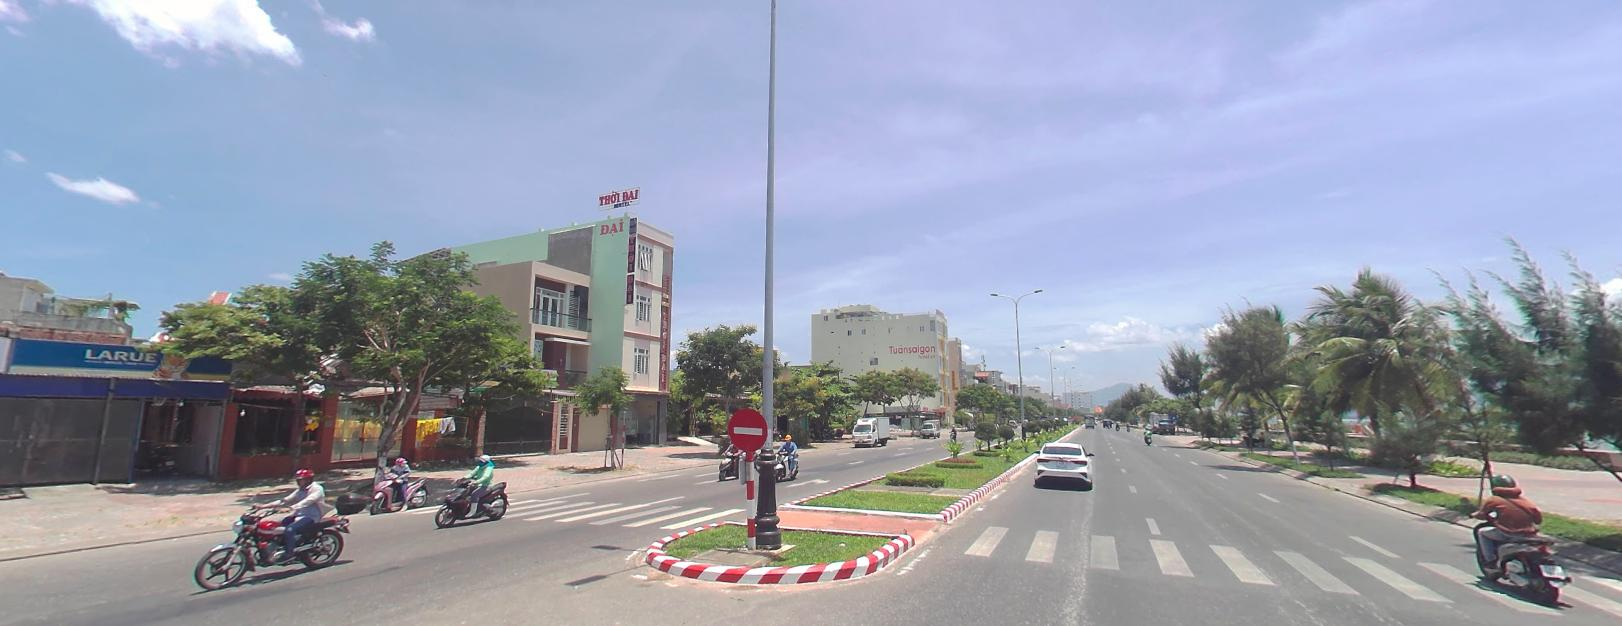Cam nguoc chieu: (725, 407, 765, 449)
